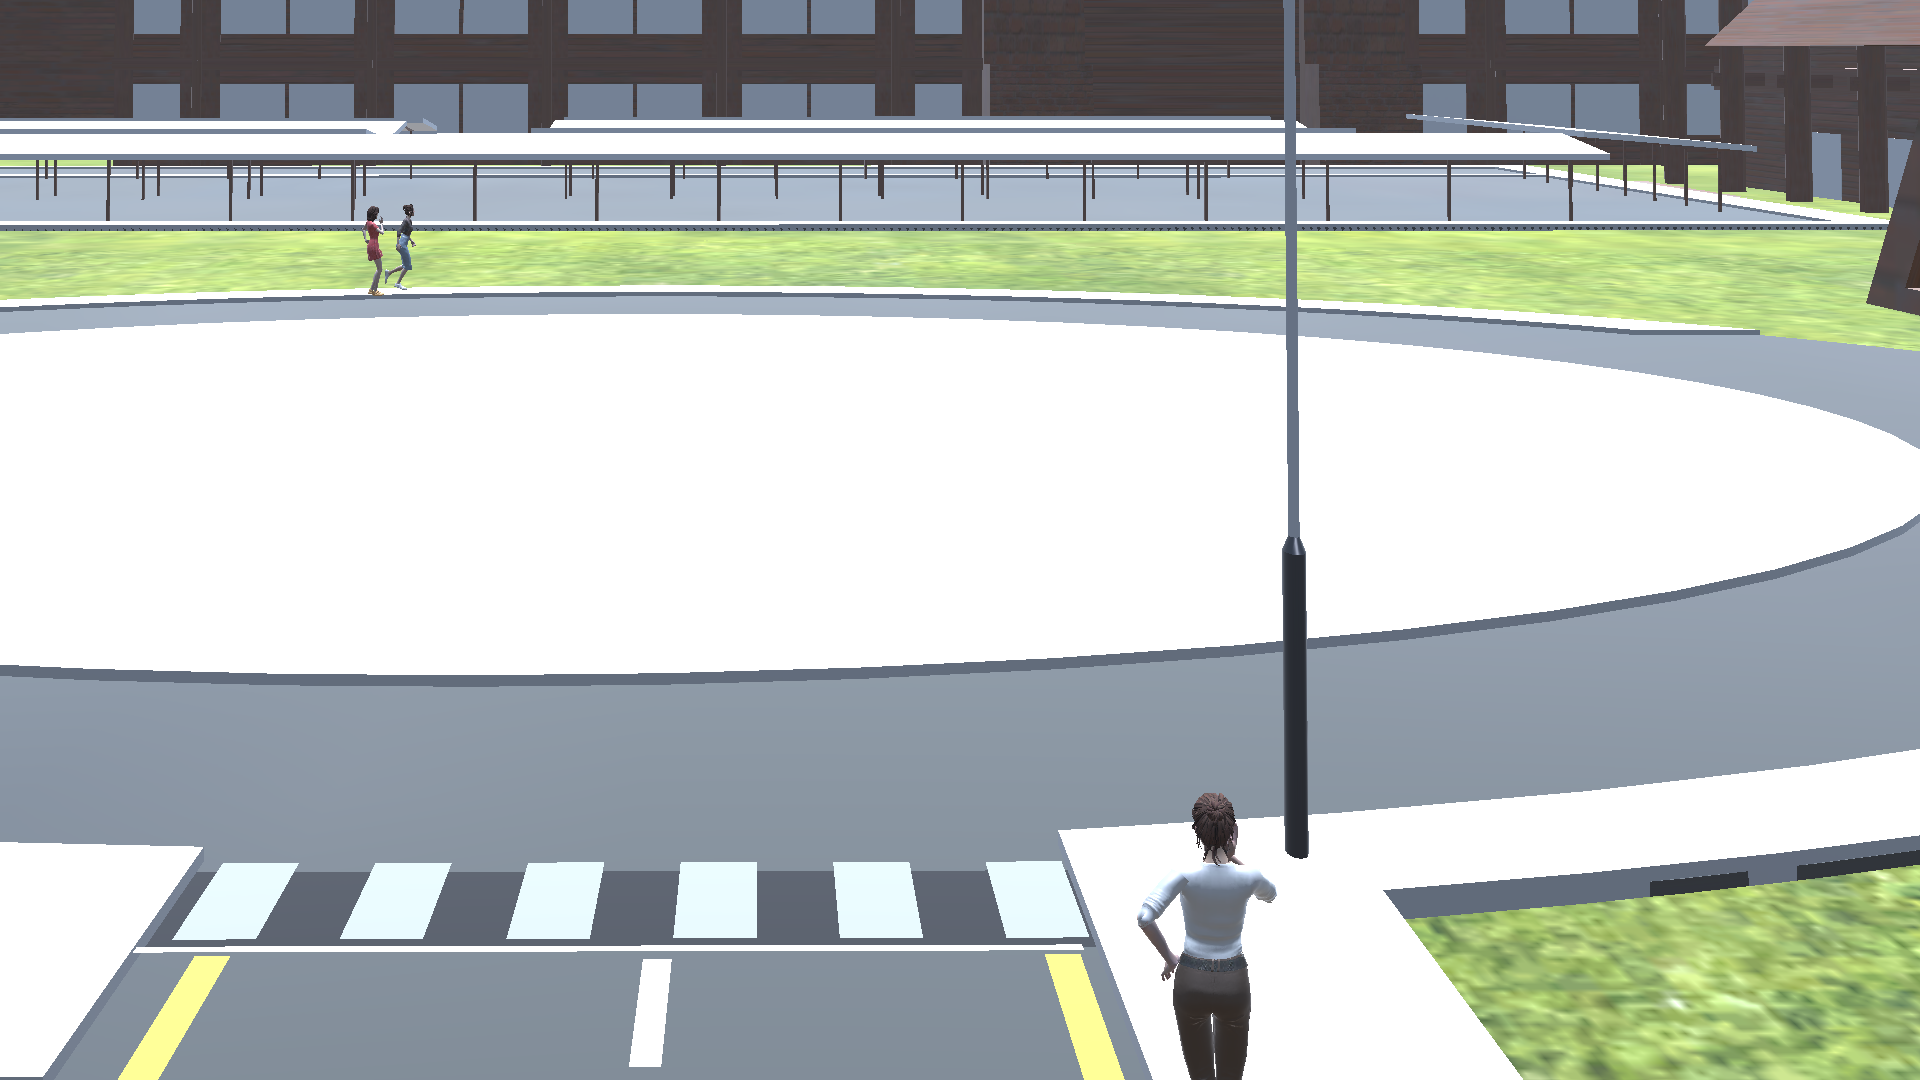pedestrian: (1140, 786, 1279, 1078), (349, 202, 384, 302), (387, 203, 416, 289)
